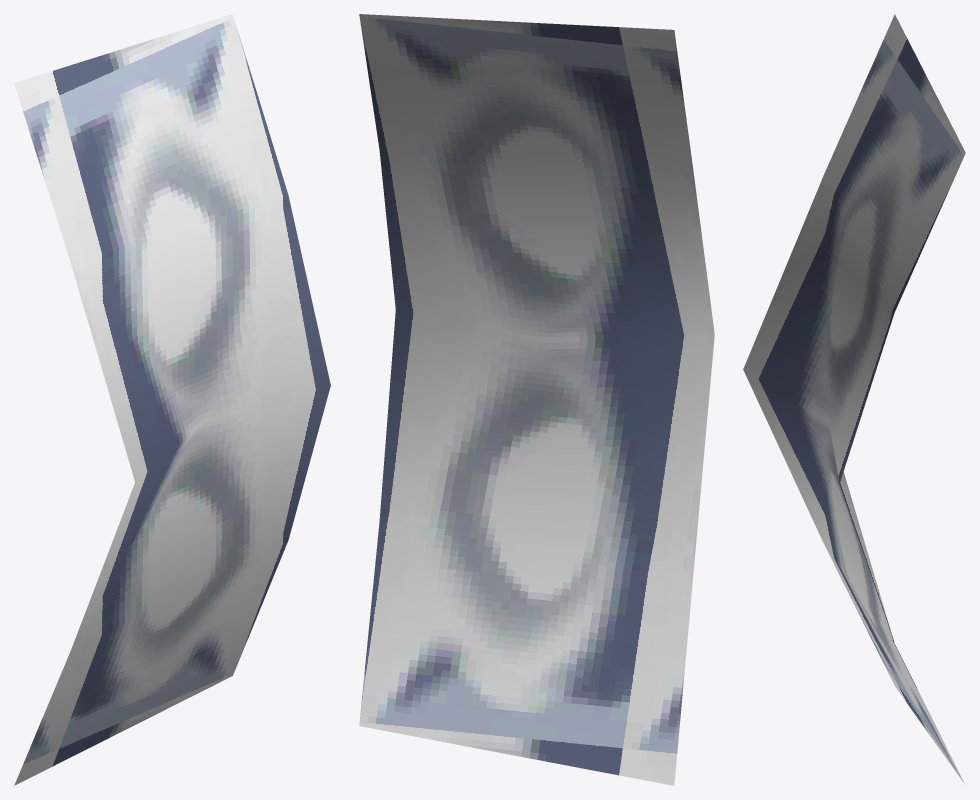
File: acc_mask_masquerade.dae
The picture shows the model from 3 angles, left to right: view 1: azimuth 30°, elevation 25°; view 2: azimuth 150°, elevation 25°; view 3: azimuth 270°, elevation 25°; orthographic projection. The views are drawn at different scales.
Visible parts, largest first — view 1: acc_mask_masquerade; view 2: acc_mask_masquerade; view 3: acc_mask_masquerade.
Part boxes in pixels (bbox=[...]): acc_mask_masquerade: bbox=[14, 14, 330, 785]; acc_mask_masquerade: bbox=[359, 14, 714, 785]; acc_mask_masquerade: bbox=[743, 14, 965, 784].
Bounding box in the file's own units: 9.59 × 22.38 × 6.72.
1 material, 1 textured.
